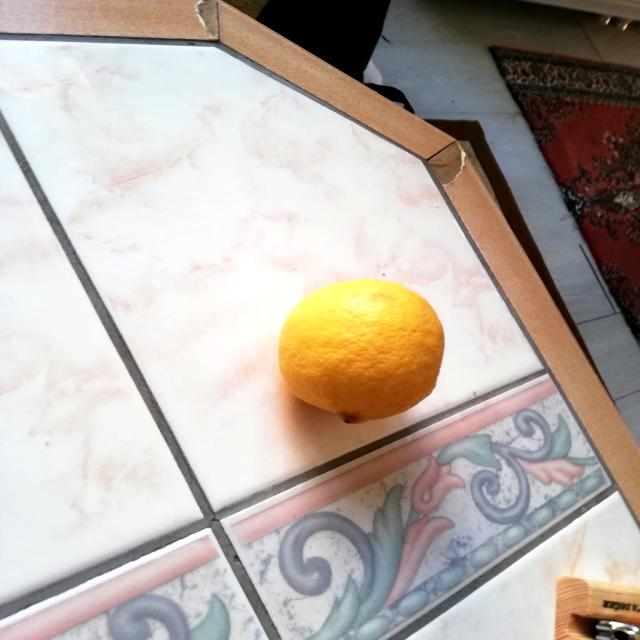lemon: (271, 274, 448, 429)
